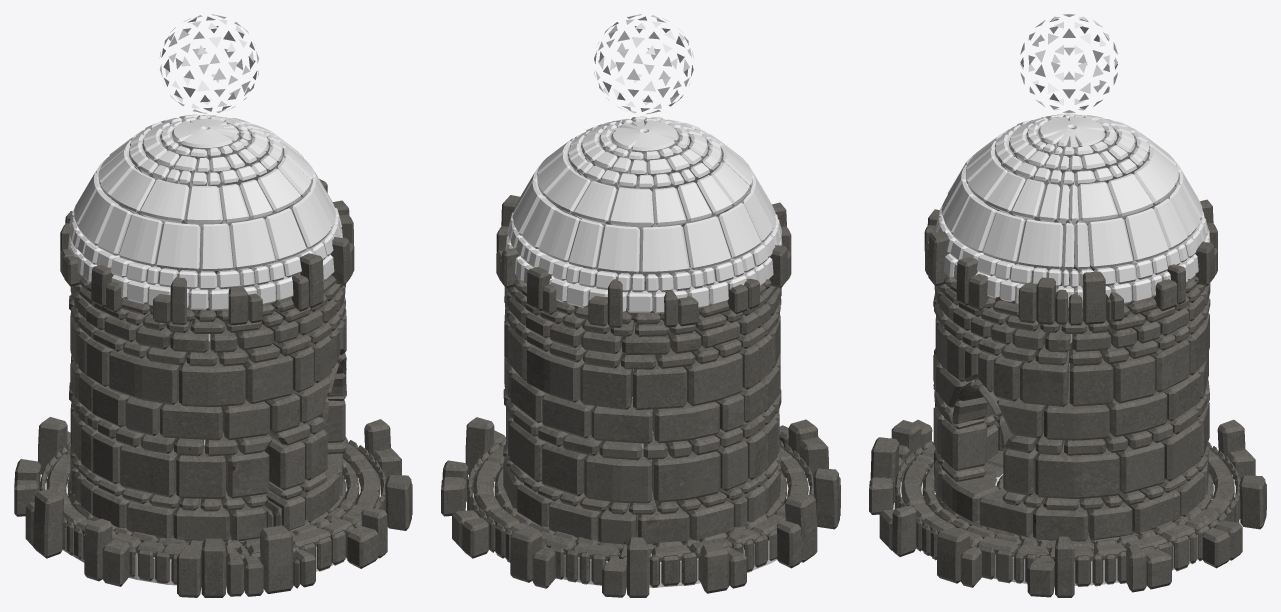
File: tower 3.fbx
3 views of the same model, side by side, from view 1: azimuth 30°, elevation 25°; view 2: azimuth 150°, elevation 25°; view 3: azimuth 270°, elevation 25° (orthographic).
Parts seen in each view (by area): view 1: Wall.006, Wall.007, Wall.010, Wall.019, Icosphere.002, Circle.002; view 2: Wall.006, Wall.007, Wall.010, Wall.019, Icosphere.002, Circle.002; view 3: Wall.006, Wall.007, Wall.010, Wall.019, Icosphere.002, Circle.002.
Part boxes in pixels (left/top/right/bottom): Wall.006: left=69, top=275, right=346, bottom=545; Wall.007: left=68, top=114, right=342, bottom=310; Wall.010: left=14, top=417, right=412, bottom=597; Wall.019: left=60, top=179, right=354, bottom=325; Icosphere.002: left=159, top=14, right=258, bottom=113; Circle.002: left=45, top=477, right=380, bottom=585; Wall.006: left=503, top=278, right=781, bottom=547; Wall.007: left=505, top=116, right=782, bottom=313; Wall.010: left=441, top=410, right=840, bottom=597; Wall.019: left=496, top=192, right=791, bottom=327; Icosphere.002: left=594, top=14, right=693, bottom=114; Circle.002: left=473, top=472, right=809, bottom=587; Wall.006: left=933, top=275, right=1210, bottom=546; Wall.007: left=936, top=113, right=1210, bottom=308; Wall.010: left=869, top=419, right=1266, bottom=597; Wall.019: left=924, top=188, right=1217, bottom=325; Icosphere.002: left=1020, top=14, right=1117, bottom=113; Circle.002: left=900, top=468, right=1235, bottom=585.
Size of the model in its own units: 2112 by 2905 by 2113.
